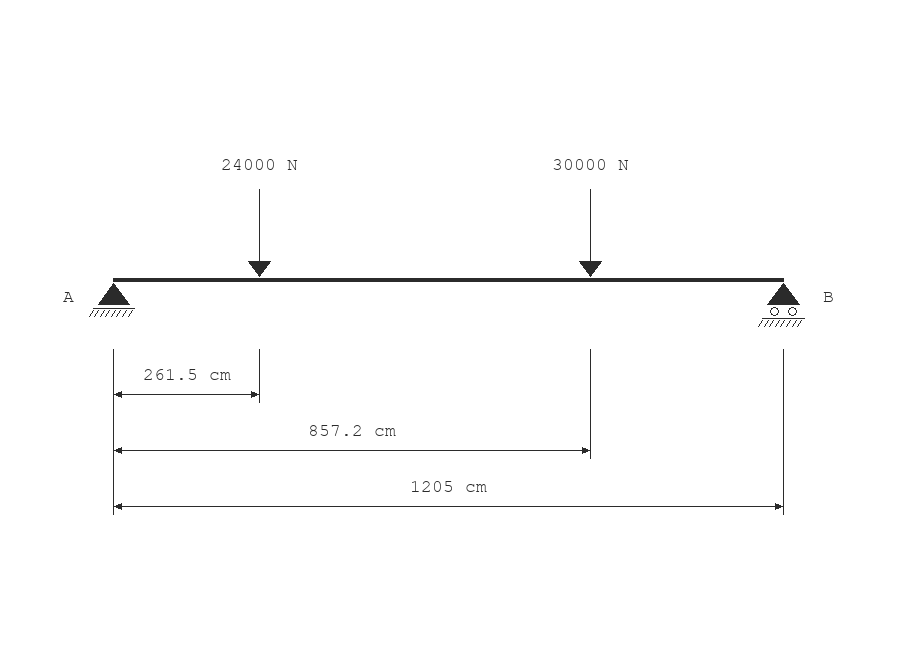pin_support: (89, 283, 135, 317)
point_load: (248, 189, 271, 277), (579, 189, 602, 277)
roller_support: (758, 283, 805, 327)
